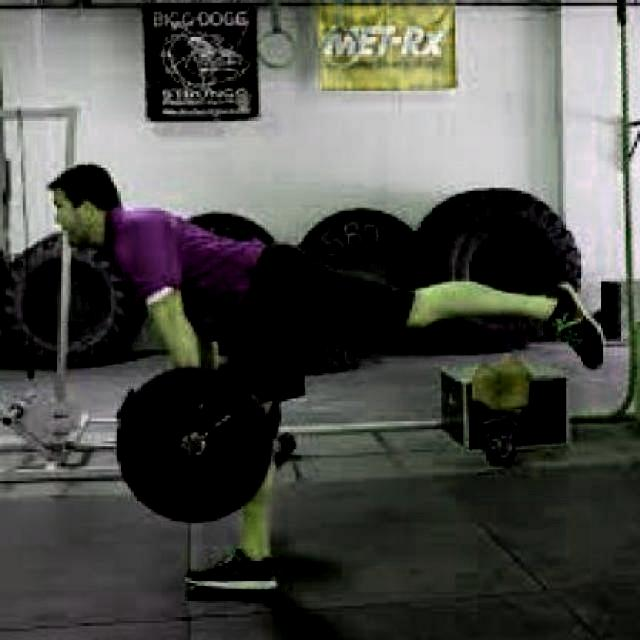barbell: (116, 362, 276, 530)
